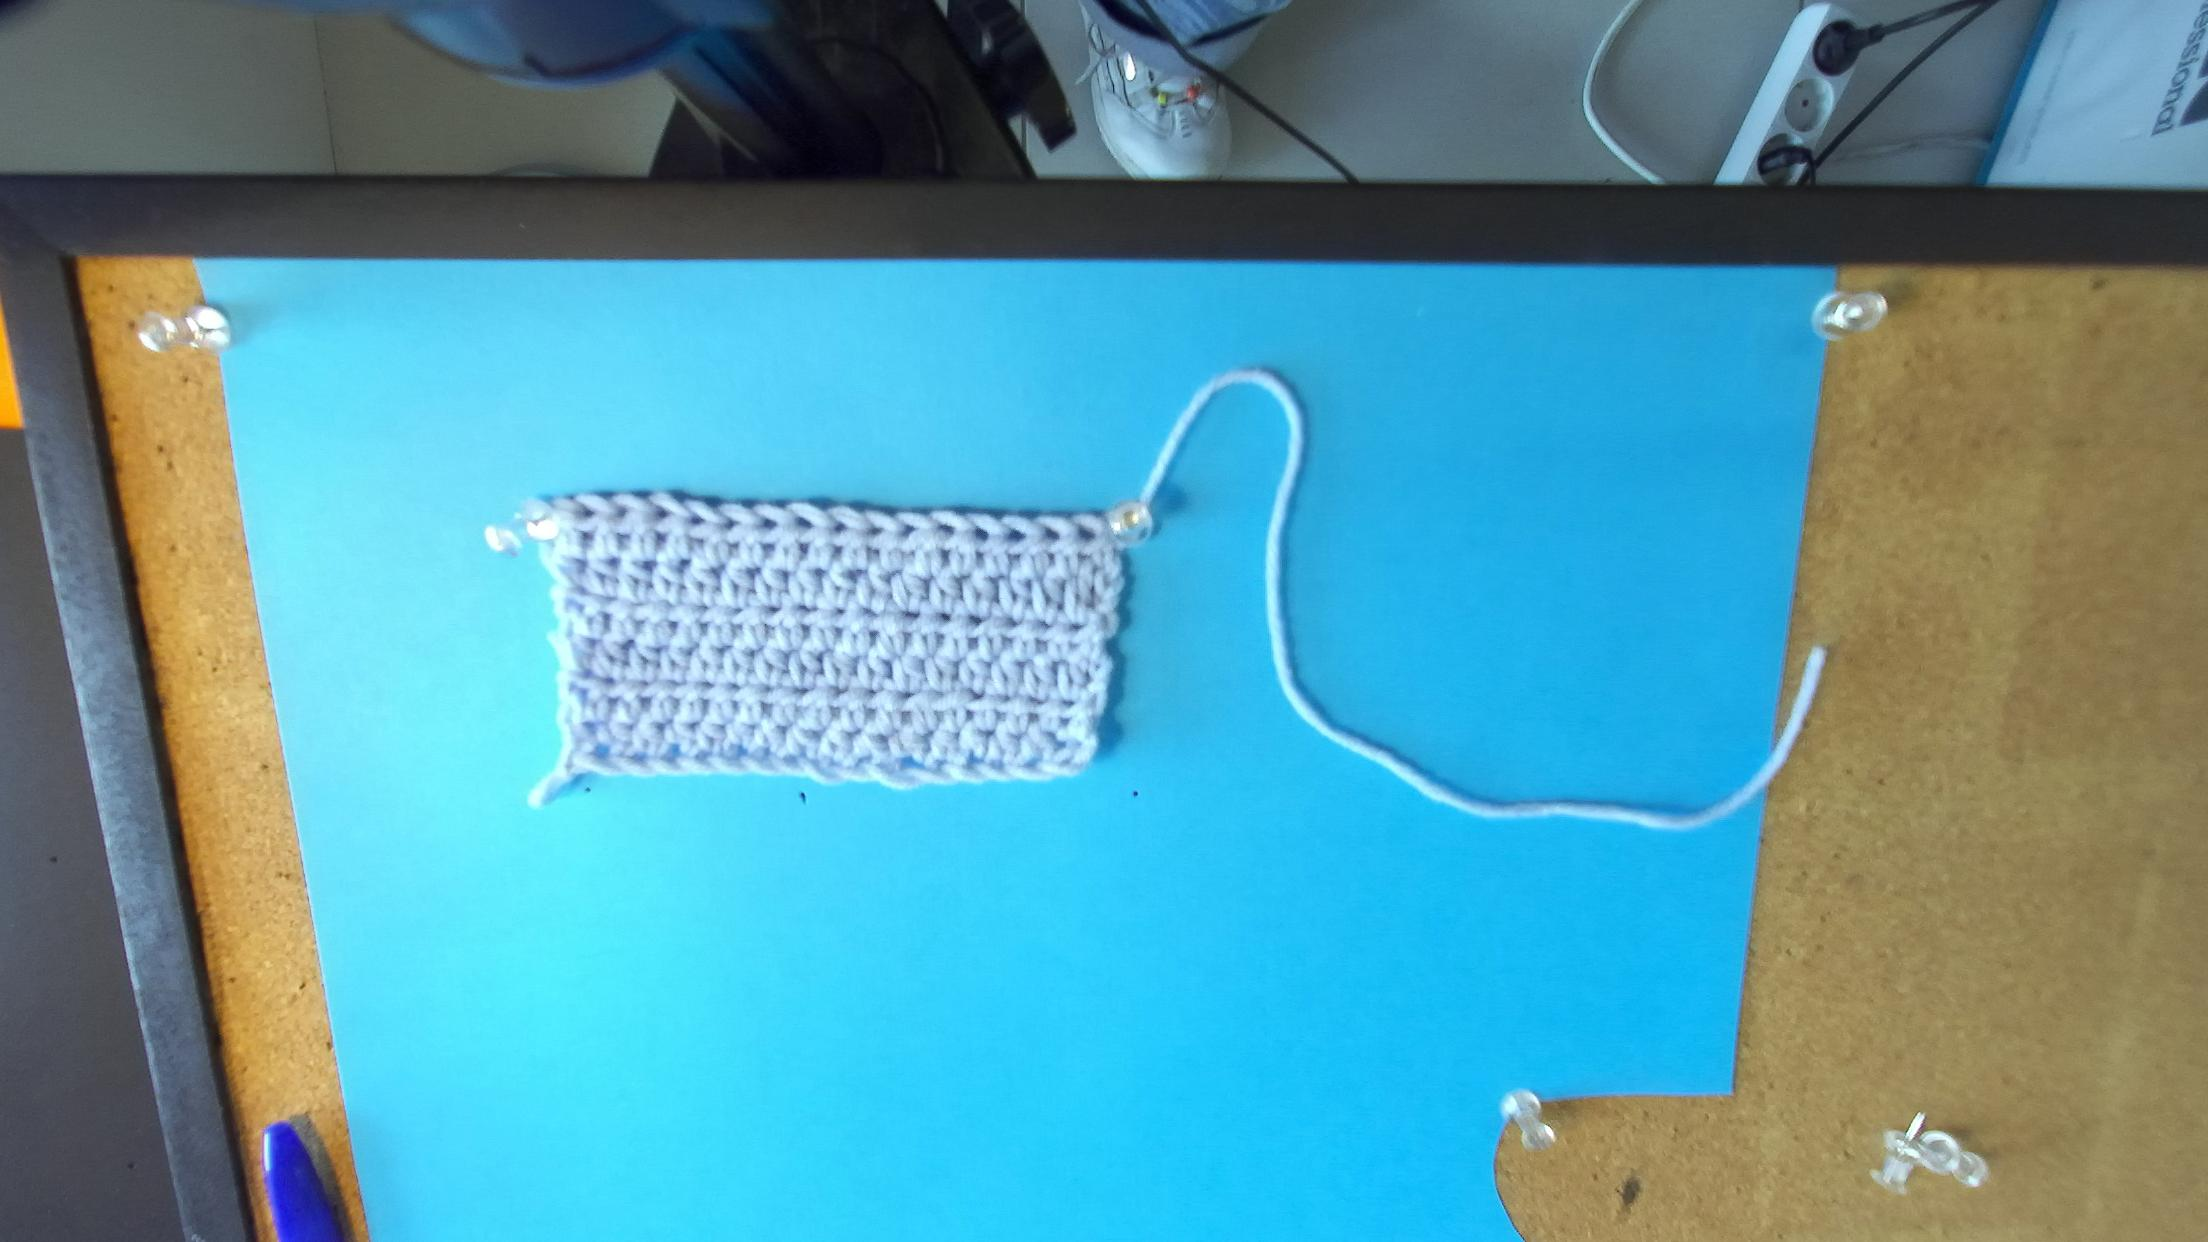hole: (1077, 525, 1095, 543), (576, 503, 597, 519), (972, 526, 990, 543), (936, 523, 957, 537), (654, 505, 673, 519), (722, 517, 742, 531), (898, 525, 917, 538), (1005, 529, 1027, 541), (688, 511, 707, 525), (864, 523, 883, 537), (795, 516, 814, 528), (1043, 526, 1060, 540), (616, 505, 631, 519), (834, 522, 849, 534), (761, 519, 778, 529)
swatch: (503, 491, 1156, 795)
